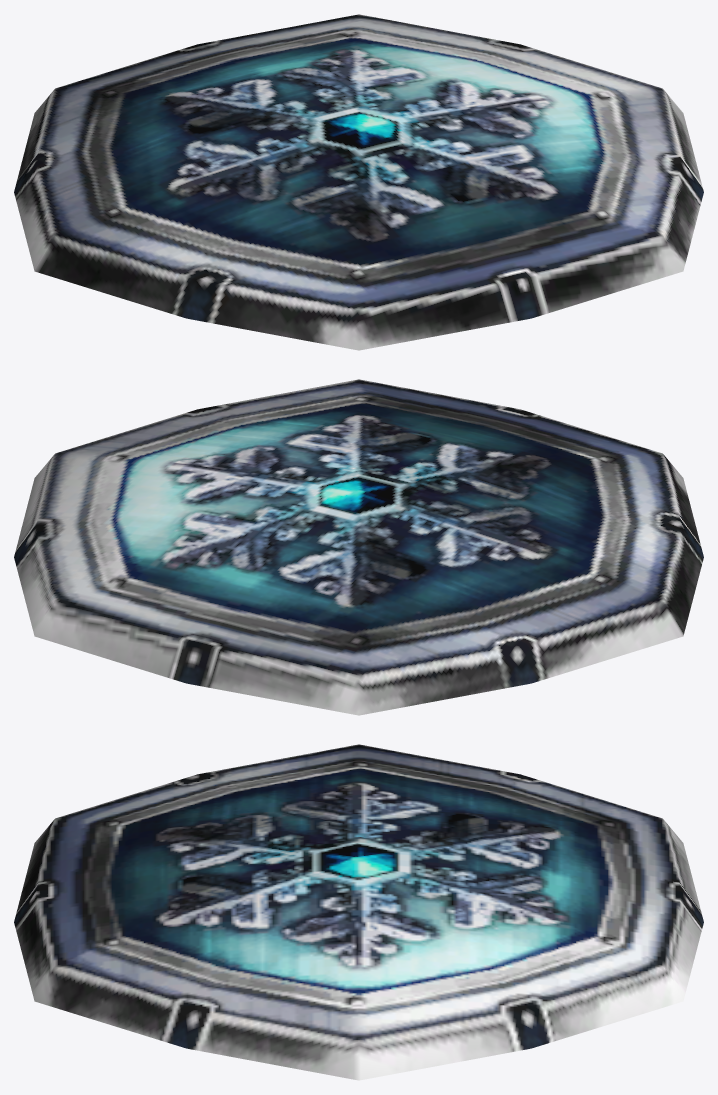
3 renders of one model, top to bottom at view 1: azimuth 30°, elevation 25°; view 2: azimuth 150°, elevation 25°; view 3: azimuth 270°, elevation 25°, orthographic.
Visible parts, largest first — view 1: EM_017082_22_000; view 2: EM_017082_22_000; view 3: EM_017082_22_000.
Part boxes in pixels (<box>): EM_017082_22_000: <box>14,14,703,350</box>; EM_017082_22_000: <box>14,379,703,715</box>; EM_017082_22_000: <box>14,744,703,1080</box>.
Bounding box in the file's own units: 0.4517 × 0.0427 × 0.416.
Materials: 1 (1 with a texture image).
